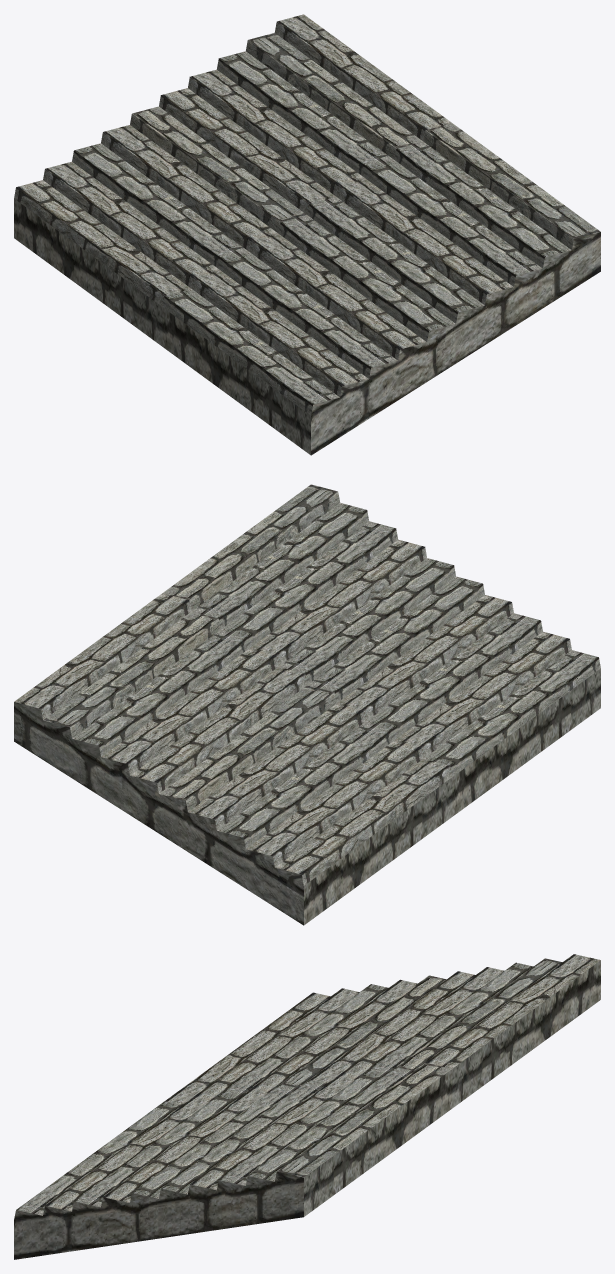
The model's file is Stair.fbx.
3 renders of one model, top to bottom at view 1: azimuth 30°, elevation 25°; view 2: azimuth 150°, elevation 25°; view 3: azimuth 330°, elevation 25°, orthographic.
Visible parts, largest first — view 1: SMO_BG50_Kaidan_0100_ILCA; view 2: SMO_BG50_Kaidan_0100_ILCA; view 3: SMO_BG50_Kaidan_0100_ILCA.
Part boxes in pixels (left/top/right/bottom): SMO_BG50_Kaidan_0100_ILCA: left=14, top=14, right=600, bottom=455; SMO_BG50_Kaidan_0100_ILCA: left=14, top=484, right=600, bottom=925; SMO_BG50_Kaidan_0100_ILCA: left=14, top=954, right=600, bottom=1259.
Bounding box in the file's own units: 535 × 270 × 950.
